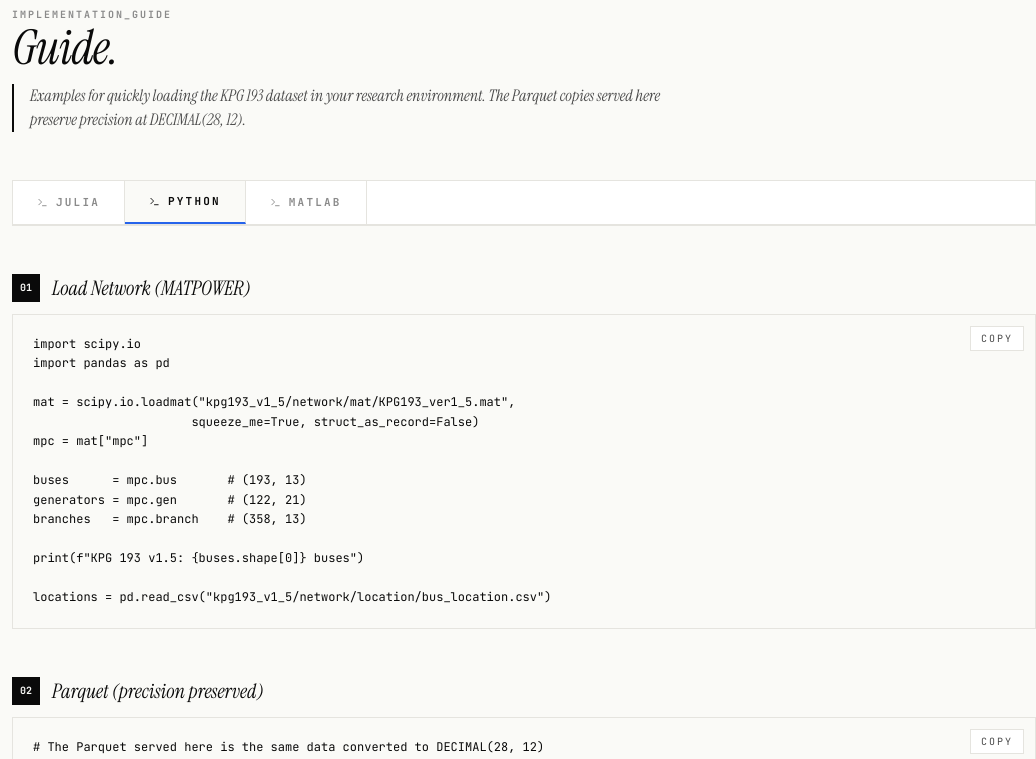
GuidePage › Julia 탭 클릭 시 Julia 코드를 노출한다
The image size is (1036, 759).
Click the button "Julia" at (69,202), box top-left (13, 181), bottom-right (125, 224)
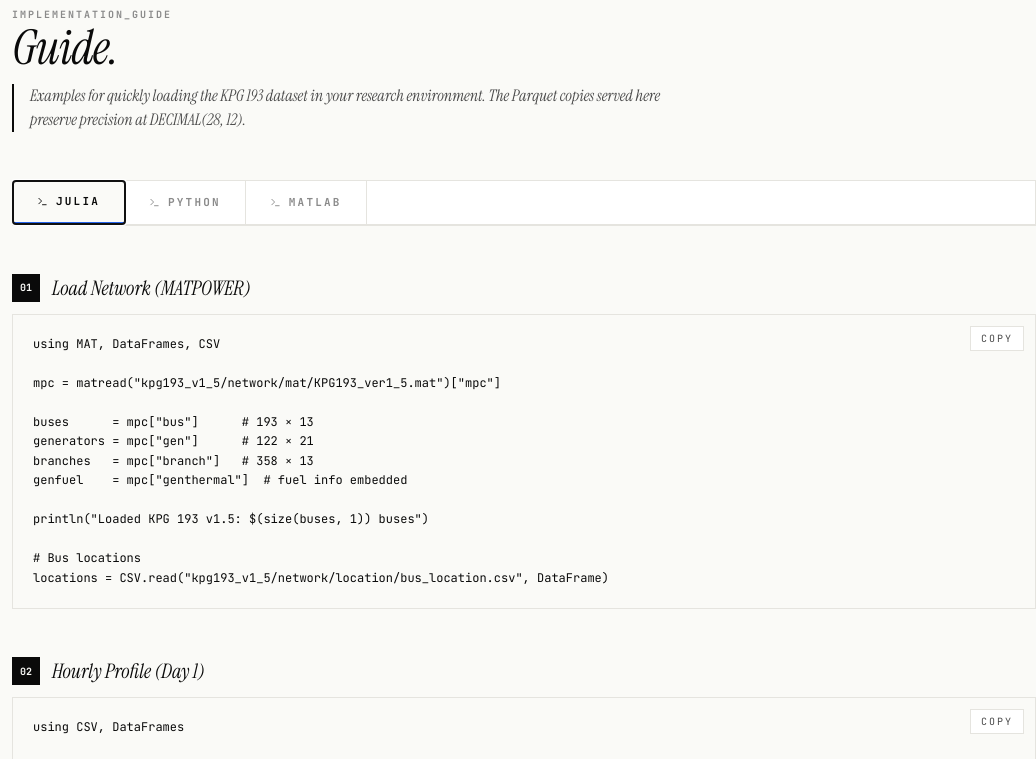
Check: the text "using MAT, DataFrames" is shown, box top-left (33, 336), bottom-right (609, 586)
